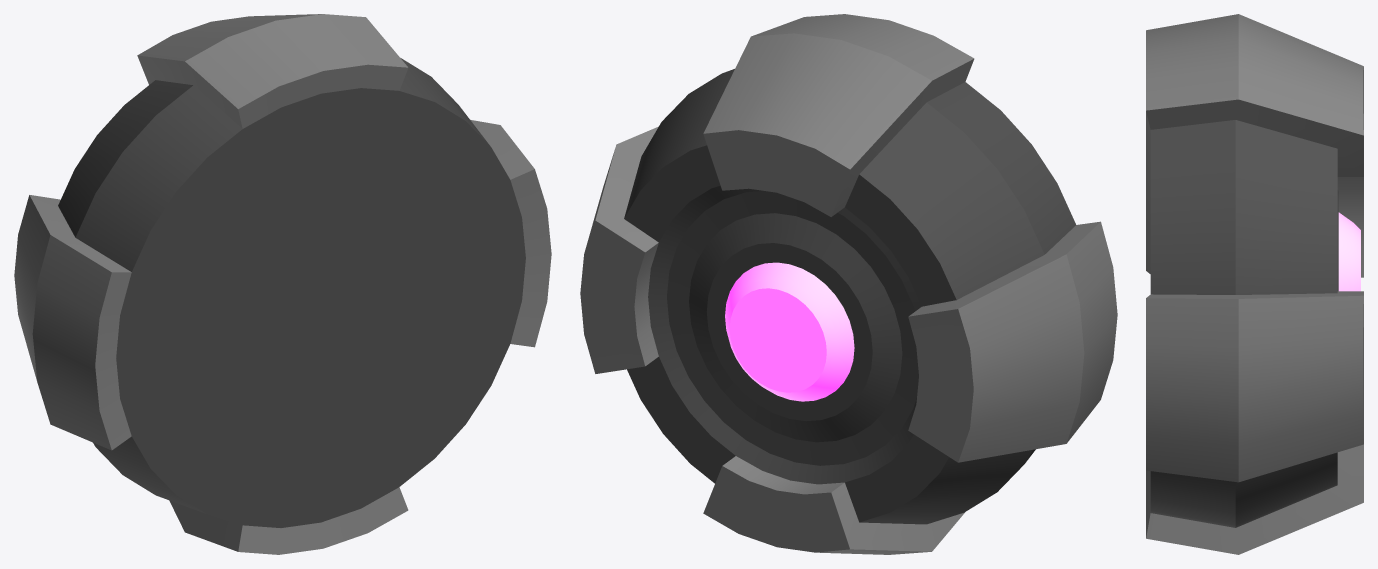
File: Mines.fbx
3 renders of one model, left to right at view 1: azimuth 30°, elevation 25°; view 2: azimuth 150°, elevation 25°; view 3: azimuth 270°, elevation 25°, orthographic. The views are drawn at different scales.
Visible parts, largest first — view 1: Cylinder, Cylinder.001, Cylinder.002; view 2: Cylinder, Cylinder.001, Cylinder.002; view 3: Cylinder, Cylinder.001, Cylinder.002.
Part boxes in pixels (x1,y1,x2,y2): Cylinder: (58,58,525,527); Cylinder.001: (14,120,551,450); Cylinder.002: (137,14,408,554); Cylinder: (624,69,1075,524); Cylinder.001: (580,126,1117,462); Cylinder.002: (703,14,974,554); Cylinder: (1150,120,1360,527); Cylinder.001: (1146,111,1363,482); Cylinder.002: (1146,14,1363,554).
Bounding box in the file's own units: 198 × 198 × 79.44.
